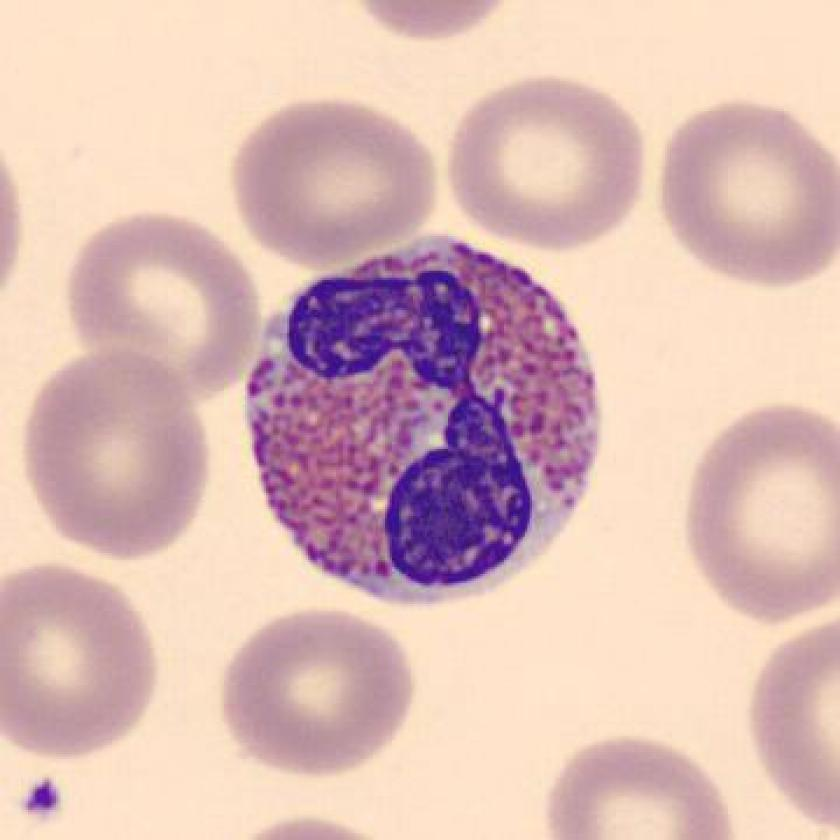eosinophil: (232, 223, 615, 617)
